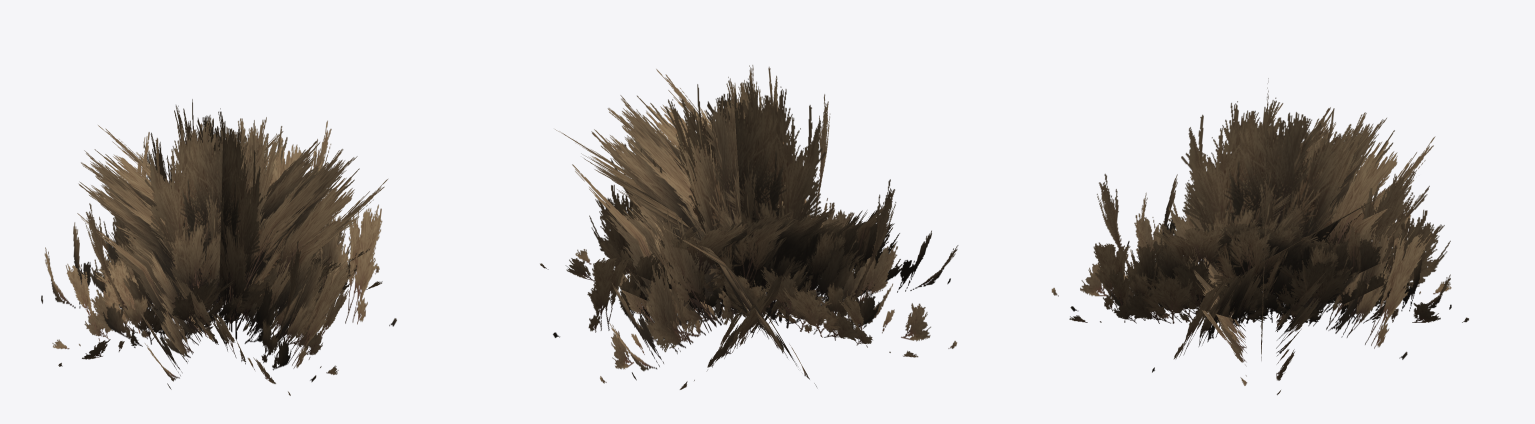
Rendered from Bush_F.glb.
3 views of the same model, side by side, from view 1: azimuth 30°, elevation 25°; view 2: azimuth 150°, elevation 25°; view 3: azimuth 270°, elevation 25° (orthographic). The views are drawn at different scales.
Visible parts, largest first — view 1: BushF_LOD0; view 2: BushF_LOD0; view 3: BushF_LOD0.
Boxes of the visible parts, box(x1,y1,x2,y2) form: BushF_LOD0: box(41, 99, 396, 395); BushF_LOD0: box(540, 65, 958, 389); BushF_LOD0: box(1051, 78, 1468, 394).
Size of what is drawn, in the model's own units: 2.44 by 1.41 by 2.22.
1 material, 1 textured.
